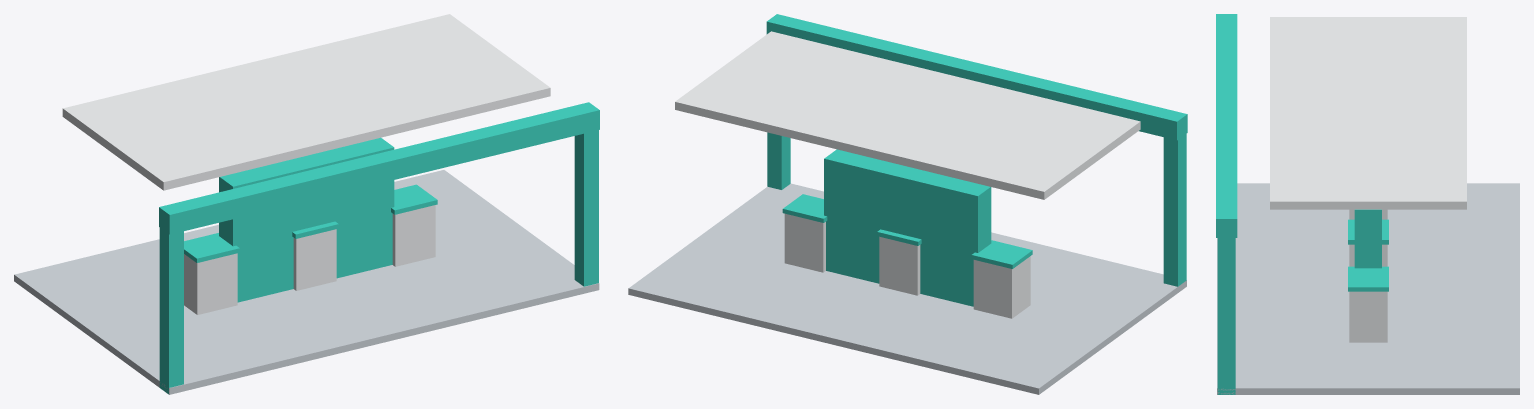
3 views of the same model, side by side, from view 1: azimuth 30°, elevation 25°; view 2: azimuth 150°, elevation 25°; view 3: azimuth 270°, elevation 25° (orthographic). The views are drawn at different scales.
Visible parts, largest first — view 1: Exhibition Booth Concept; view 2: Exhibition Booth Concept; view 3: Exhibition Booth Concept.
Boxes of the visible parts, <box> form: Exhibition Booth Concept: <box>14,14,599,394</box>; Exhibition Booth Concept: <box>628,14,1187,394</box>; Exhibition Booth Concept: <box>1216,14,1519,394</box>.
Size of the model in its own units: 8 by 3.34 by 5.02.
